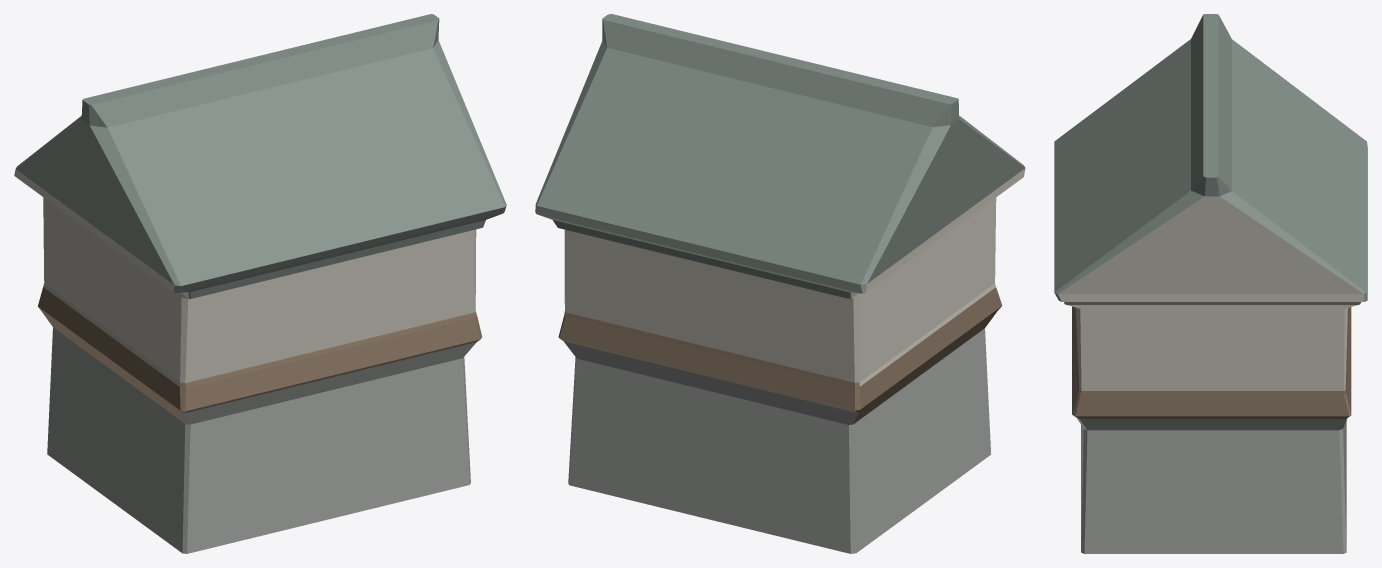
The model's file is loin.glb.
The picture shows the model from 3 angles, left to right: view 1: azimuth 30°, elevation 25°; view 2: azimuth 150°, elevation 25°; view 3: azimuth 270°, elevation 25°; orthographic projection. The views are drawn at different scales.
Parts seen in each view (by area): view 1: loin; view 2: loin; view 3: loin.
Boxes of the visible parts, x1,y1,x2,y2 form: loin: (14, 14, 506, 553); loin: (535, 14, 1025, 553); loin: (1054, 14, 1367, 553).
Size of the model in its own units: 0.8569 by 0.9563 by 0.6939.
